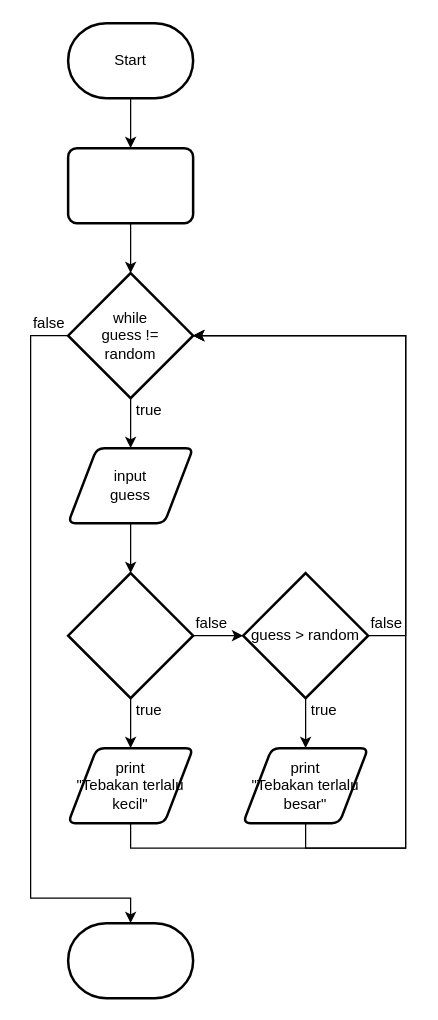
Image size: 438x1020. Some labels were removed from this diagram. Here are the shapes that lost their labels. From the top down, the centre of each, then its label:
the point at 130,185: random = angka acak dari 0-100
the point at 130,635: guess < random
the point at 130,960: End
